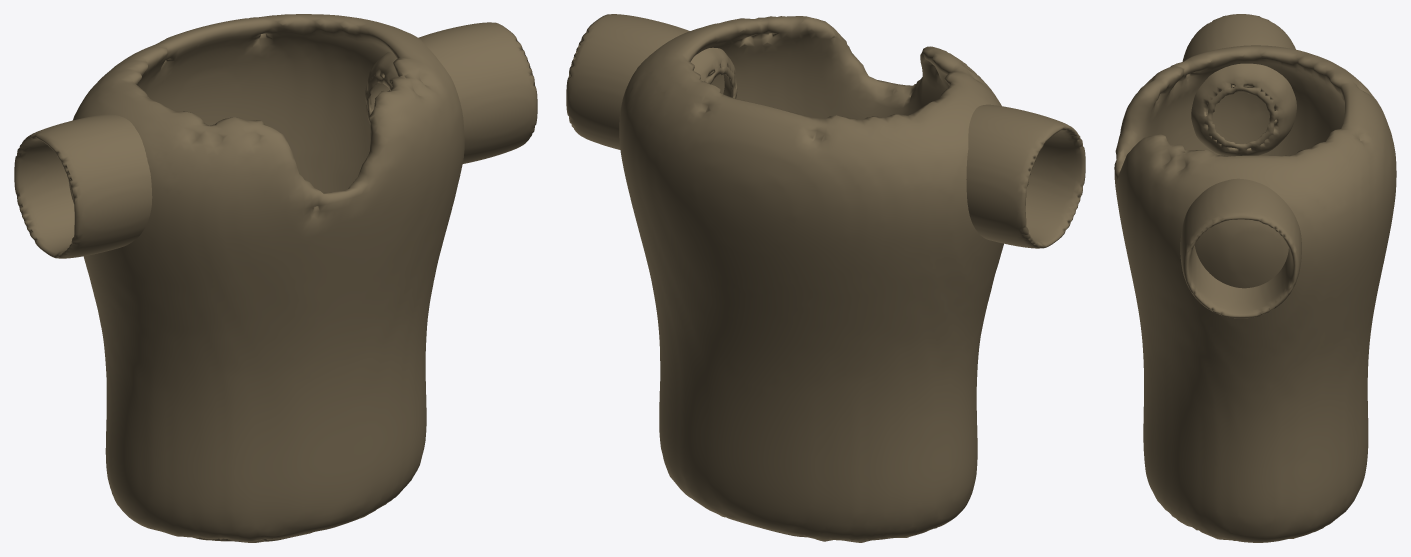
File: Shirt1.fbx
3 renders of one model, left to right at view 1: azimuth 30°, elevation 25°; view 2: azimuth 150°, elevation 25°; view 3: azimuth 270°, elevation 25°, orthographic. The views are drawn at different scales.
Visible parts, largest first — view 1: Cylinder.044, Cylinder.045, Cylinder.050; view 2: Cylinder.044, Cylinder.045, Cylinder.050; view 3: Cylinder.044, Cylinder.050, Cylinder.045.
Part boxes in pixels (left/top/right/bottom): Cylinder.044: left=68, top=14, right=464, bottom=542; Cylinder.045: left=14, top=114, right=152, bottom=258; Cylinder.050: left=365, top=22, right=537, bottom=163; Cylinder.044: left=619, top=16, right=1003, bottom=542; Cylinder.045: left=966, top=104, right=1085, bottom=248; Cylinder.050: left=566, top=14, right=737, bottom=149; Cylinder.044: left=1114, top=45, right=1396, bottom=542; Cylinder.050: left=1180, top=178, right=1301, bottom=318; Cylinder.045: left=1182, top=14, right=1296, bottom=156.
Size of the model in its own units: 242 by 142 by 218.
